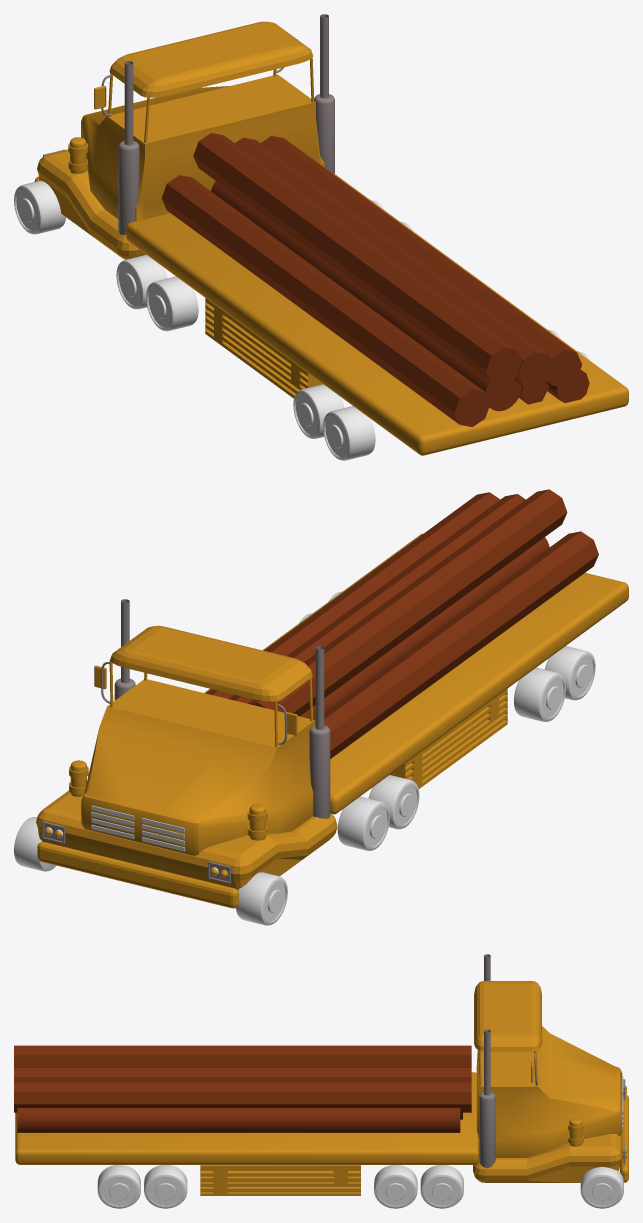
The model's file is convoyeur(1).fbx.
The picture shows the model from 3 angles, top to bottom: view 1: azimuth 30°, elevation 25°; view 2: azimuth 150°, elevation 25°; view 3: azimuth 270°, elevation 25°; orthographic projection. The views are drawn at different scales.
Visible parts, largest first — view 1: Cube_1_3_3, Cube_4, Cylindre_5, Cylindre_3, TOIT, Cylindre_6, Cylindre_4, Cylindre_2, Cube_1, dessous, Cylindre_2_4, Cylindre_1_6 (+8 smaller); view 2: Cube_4, Cube_1_3_3, Cylindre_5, Cylindre_3, Cube_1, TOIT, Cylindre_6, Cylindre_4, Cube_3, dessous, Cylindre_2, Cylindre_1_7 (+7 smaller); view 3: Cube_1_3_3, Cube_4, Cylindre_6, Cylindre, Cylindre_3, Cylindre_4, dessous_1, TOIT, Cube_1, Cylindre_1_4, Cylindre_1_5, Cylindre_2_3 (+5 smaller).
Boxes of the visible parts, box(x1,y1,x2,y2) form: Cube_1_3_3: box(126, 173, 628, 455); Cube_4: box(81, 74, 324, 220); Cylindre_5: box(161, 175, 490, 426); Cylindre_3: box(193, 133, 521, 384); TOIT: box(109, 21, 313, 97); Cylindre_6: box(261, 136, 582, 387); Cylindre_4: box(235, 137, 553, 389); Cylindre_2: box(211, 181, 521, 411); Cube_1: box(37, 149, 145, 259); dessous: box(205, 298, 322, 398); Cylindre_2_4: box(323, 406, 375, 460); Cylindre_1_6: box(146, 276, 198, 331); Cube_4: box(81, 679, 315, 855); Cube_1_3_3: box(204, 533, 628, 814); Cylindre_5: box(314, 531, 598, 758); Cylindre_3: box(248, 489, 567, 716); Cube_1: box(36, 790, 337, 890); TOIT: box(110, 625, 312, 701); Cylindre_6: box(205, 492, 500, 698); Cylindre_4: box(228, 494, 525, 703); Cube_3: box(37, 841, 238, 908); dessous: box(390, 688, 507, 788); Cylindre_2: box(300, 537, 549, 719); Cylindre_1_7: box(337, 796, 389, 850); Cube_1_3_3: box(15, 1072, 478, 1164); Cube_4: box(476, 1026, 622, 1158); Cylindre_6: box(14, 1082, 471, 1112); Cylindre: box(17, 1108, 460, 1133); Cylindre_3: box(14, 1045, 471, 1067); Cylindre_4: box(14, 1067, 471, 1082); dessous_1: box(200, 1165, 360, 1195); TOIT: box(474, 981, 541, 1051); Cube_1: box(473, 1132, 622, 1182); Cylindre_1_4: box(374, 1165, 417, 1208); Cylindre_1_5: box(420, 1165, 463, 1208); Cylindre_2_3: box(97, 1165, 140, 1208).
Size of the model in its own units: 411 by 339 by 1114.
